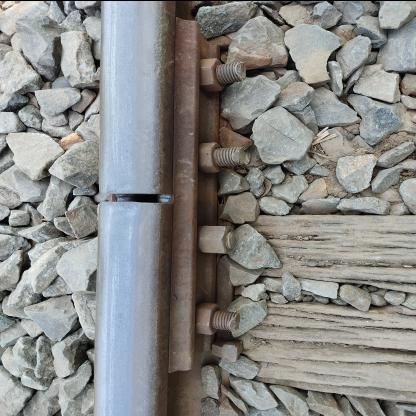Non Defective: (97, 11, 264, 378)
